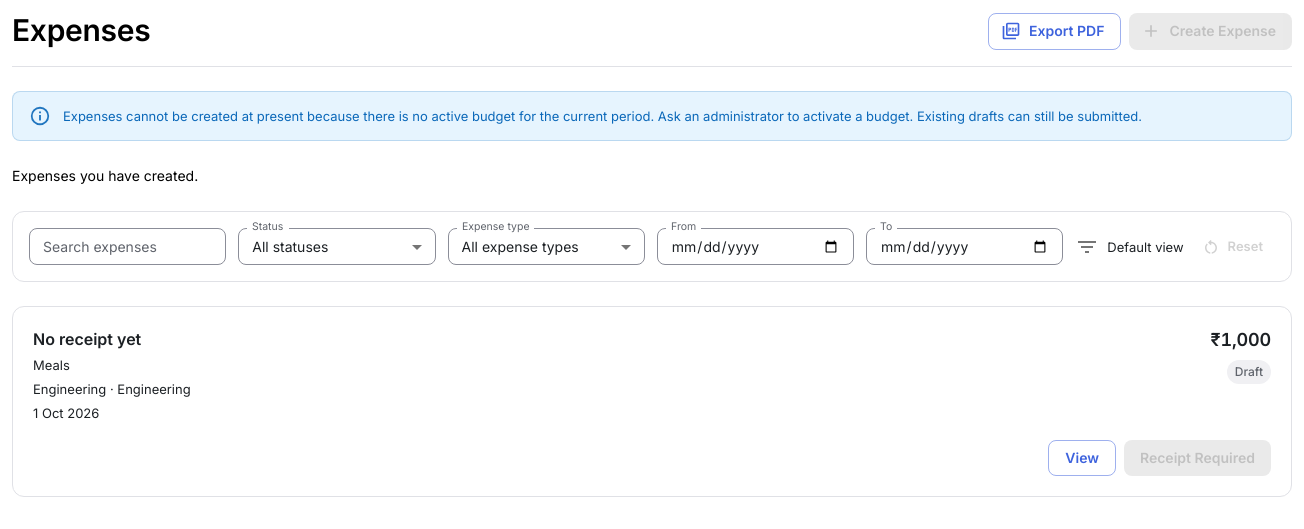
Test: ExpensesPage receipt reminder › explains why a draft without a receipt cannot be submitted
Hover over the element showing "Receipt Required" at (1198, 458), box [1124,440,1271,476]
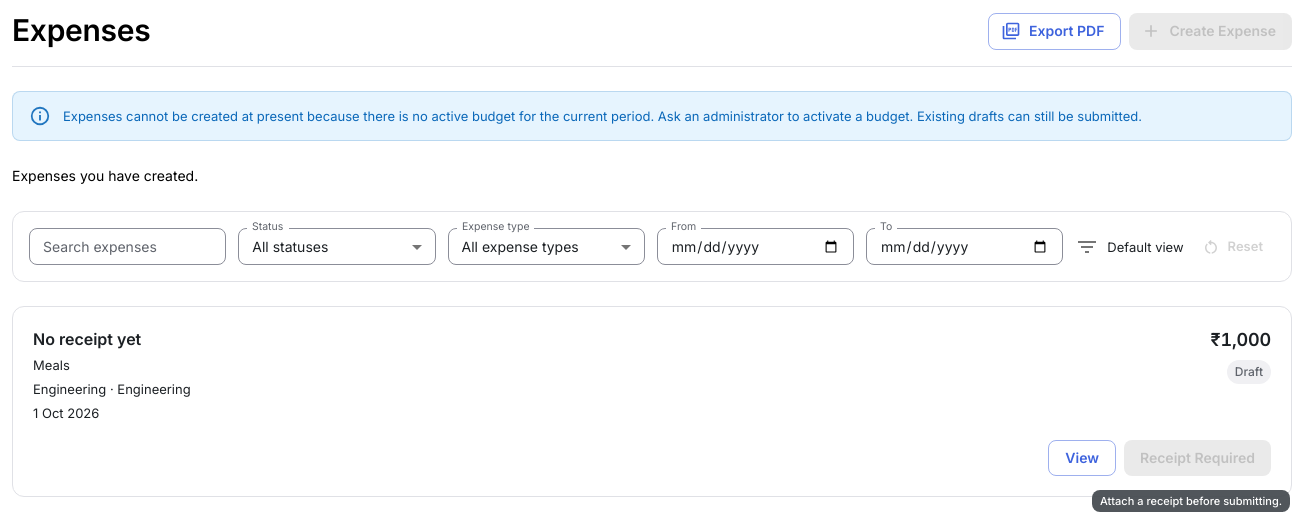
expect the tooltip reads "Attach a receipt before submitting.": met, box [1100,494,1282,508]
